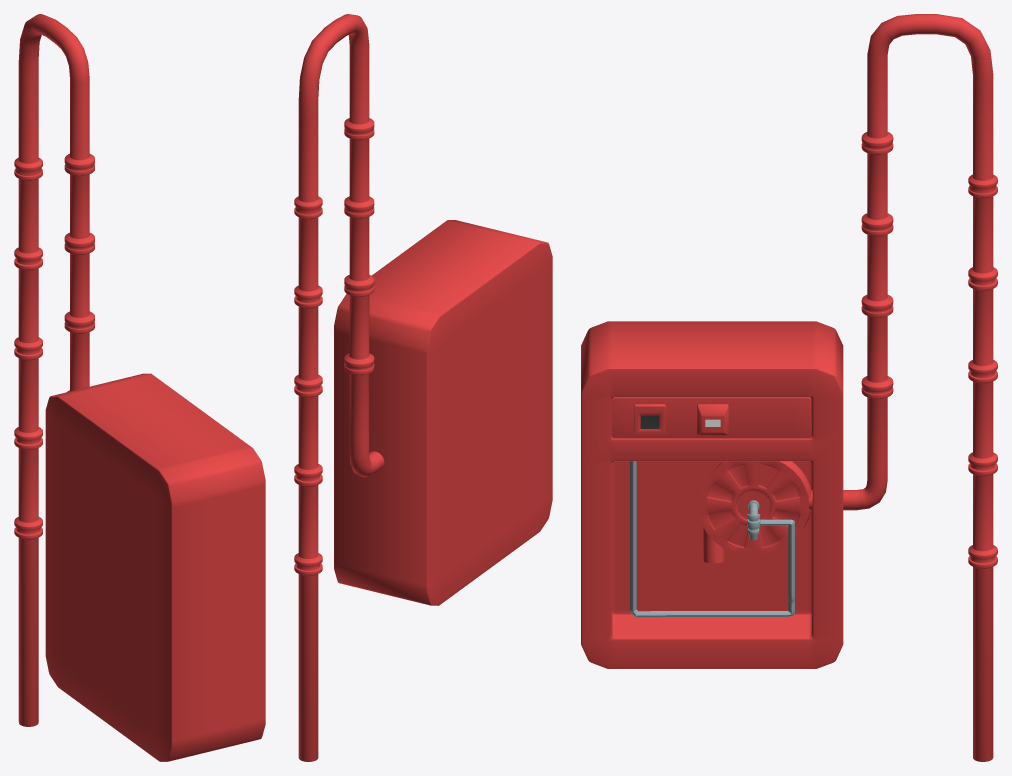
File: Hydrant_Box.fbx
3 renders of one model, left to right at view 1: azimuth 30°, elevation 25°; view 2: azimuth 150°, elevation 25°; view 3: azimuth 270°, elevation 25°, orthographic. The views are drawn at different scales.
Visible parts, largest first — view 1: Cube, Cylinder; view 2: Cube, Cylinder; view 3: Cube, Cylinder, Circle, Cube.001, NurbsPath, Cube.026, Cube.009, Torus.
Boxes of the visible parts, x1=… form: Cube: x1=45, y1=373, x2=265, y2=761; Cylinder: x1=14, y1=14, x2=94, y2=726; Cube: x1=334, y1=220, x2=552, y2=605; Cylinder: x1=294, y1=14, x2=384, y2=761; Cube: x1=581, y1=321, x2=843, y2=668; Cylinder: x1=808, y1=14, x2=997, y2=761; Circle: x1=698, y1=461, x2=809, y2=556; Cube.001: x1=611, y1=397, x2=811, y2=438; NurbsPath: x1=630, y1=461, x2=794, y2=617; Cube.026: x1=697, y1=404, x2=728, y2=435; Cube.009: x1=634, y1=404, x2=665, y2=434; Torus: x1=703, y1=461, x2=811, y2=563.
Size of the model in its own units: 43.18 by 293 by 149.
1 material, 1 textured.
